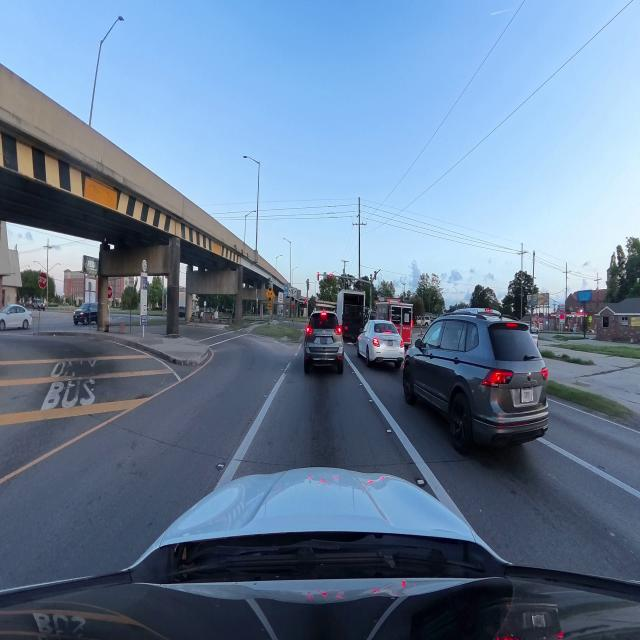car: (403, 309, 548, 453), (304, 311, 343, 373), (357, 320, 404, 368), (0, 304, 32, 330), (74, 303, 97, 324), (33, 299, 45, 310)
